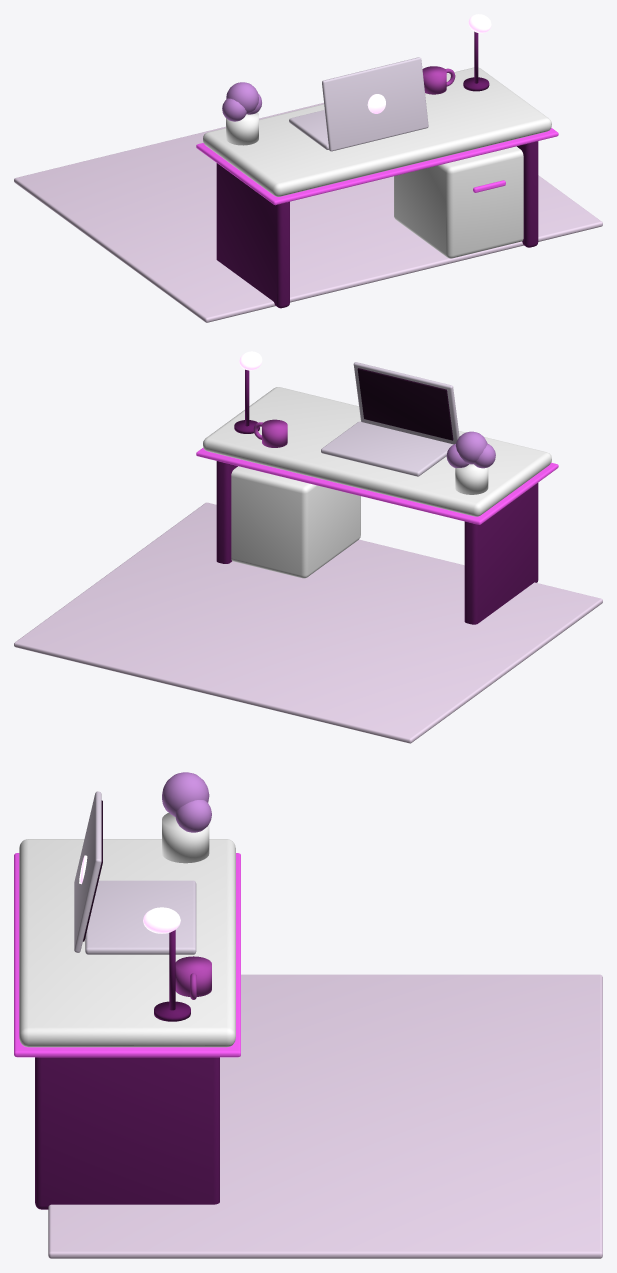
Rendered from workstation.glb.
3 renders of one model, top to bottom at view 1: azimuth 30°, elevation 25°; view 2: azimuth 150°, elevation 25°; view 3: azimuth 270°, elevation 25°, orthographic. The views are drawn at different scales.
Visible parts, largest first — view 1: Rug, DeskTop, Drawer, Leg0, LaptopLid, DeskEdge, Leg1, PlantPot, LaptopBase, Leaf0, Mug, Leaf2; view 2: Rug, DeskTop, Drawer, Leg0, LaptopScreen, LaptopBase, DeskEdge, Leg1, LaptopLid, PlantPot, Leaf0, Mug; view 3: Rug, DeskTop, Leg1, LaptopBase, DeskEdge, LaptopLid, PlantPot, Leaf0, Mug, Leaf1, LampHead.
Part boxes in pixels (bbox=[...]): Rug: bbox=[14, 103, 602, 322]; DeskTop: bbox=[203, 67, 551, 196]; Drawer: bbox=[394, 146, 523, 258]; Leg0: bbox=[216, 163, 289, 308]; LaptopLid: bbox=[322, 57, 428, 151]; DeskEdge: bbox=[196, 128, 558, 205]; Leg1: bbox=[517, 141, 538, 247]; PlantPot: bbox=[226, 112, 258, 145]; LaptopBase: bbox=[289, 110, 328, 149]; Leaf0: bbox=[226, 82, 258, 114]; Mug: bbox=[422, 66, 446, 94]; Leaf2: bbox=[222, 98, 246, 121]; Rug: bbox=[14, 502, 602, 743]; DeskTop: bbox=[203, 387, 551, 516]; Drawer: bbox=[231, 466, 360, 578]; Leg0: bbox=[464, 483, 538, 624]; LaptopScreen: bbox=[357, 368, 453, 440]; LaptopBase: bbox=[321, 421, 453, 476]; DeskEdge: bbox=[196, 448, 558, 524]; Leg1: bbox=[216, 461, 237, 563]; LaptopLid: bbox=[353, 362, 459, 444]; PlantPot: bbox=[455, 464, 488, 494]; Leaf0: bbox=[455, 431, 487, 464]; Mug: bbox=[262, 419, 287, 447]; Rug: bbox=[48, 974, 602, 1258]; DeskTop: bbox=[19, 839, 235, 1047]; Leg1: bbox=[35, 1057, 219, 1209]; LaptopBase: bbox=[85, 880, 196, 954]; DeskEdge: bbox=[14, 853, 240, 1057]; LaptopLid: bbox=[74, 791, 101, 952]; PlantPot: bbox=[162, 813, 209, 863]; Leaf0: bbox=[162, 772, 209, 816]; Mug: bbox=[175, 956, 211, 996]; Leaf1: bbox=[175, 800, 211, 832]; LampHead: bbox=[143, 907, 180, 933].
Bounding box in the file's own units: 2.5 × 1.22 × 2.23.
